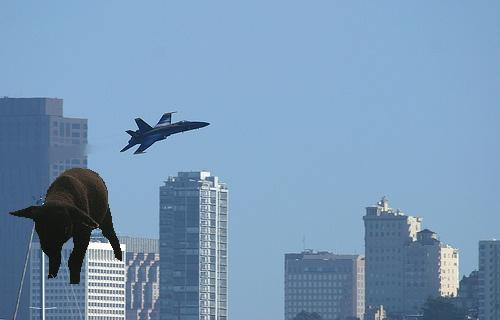tampered: (10, 169, 122, 284)
